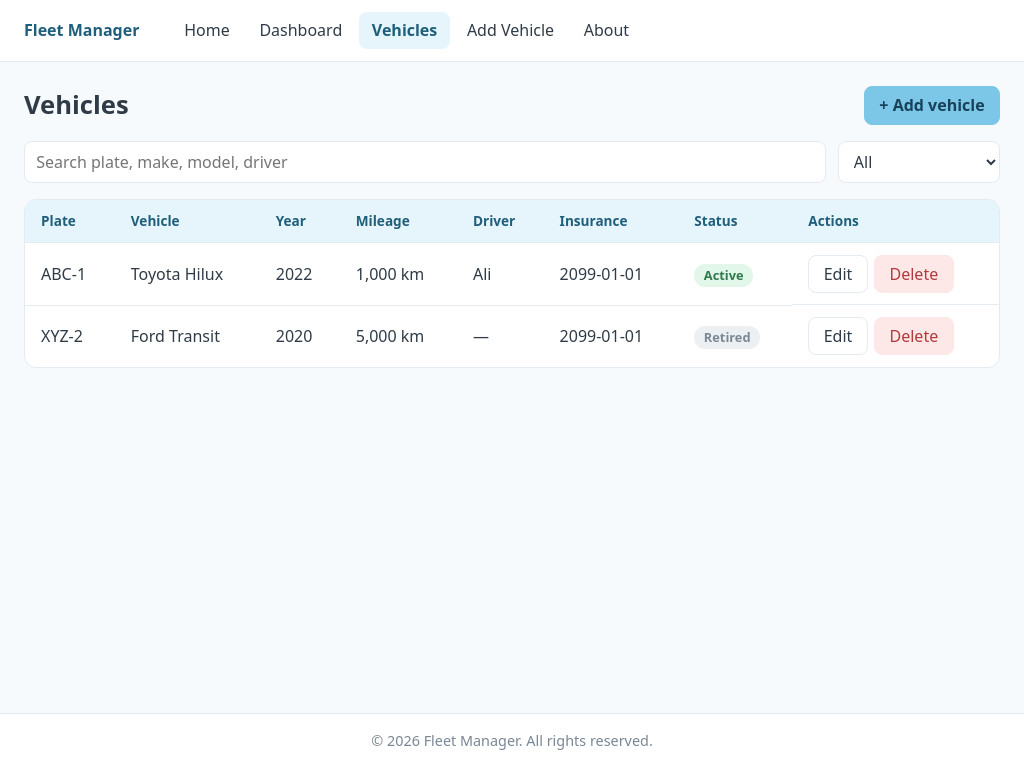
Test: vehicles list › displays vehicles and filters by search and status
This screenshot has width=1024, height=768.
Expected: the text "ABC-1" is shown, [25,243,115,306]
Expected: the text "XYZ-2" is shown, [25,306,115,367]
In the search field named "Search vehicles": {"x": 425, "y": 162} [24,141,826,183], type "toyota"
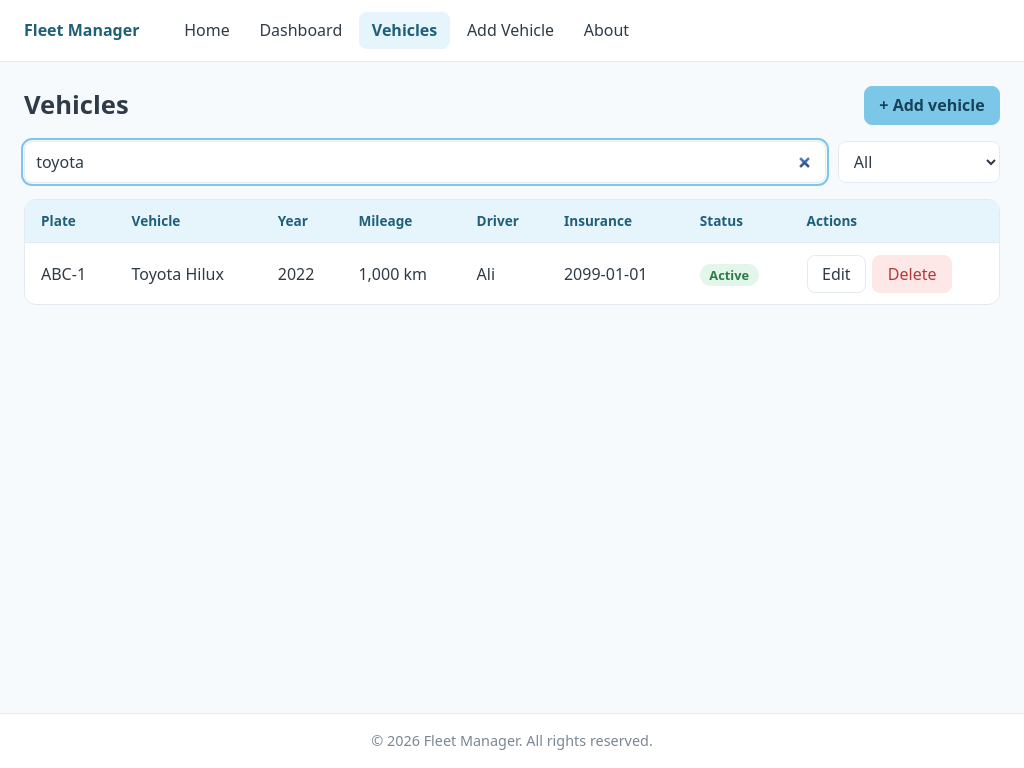
Expected: the text "XYZ-2" is gone
Clear the search field named "Search vehicles": {"x": 425, "y": 162} [24,141,826,183]
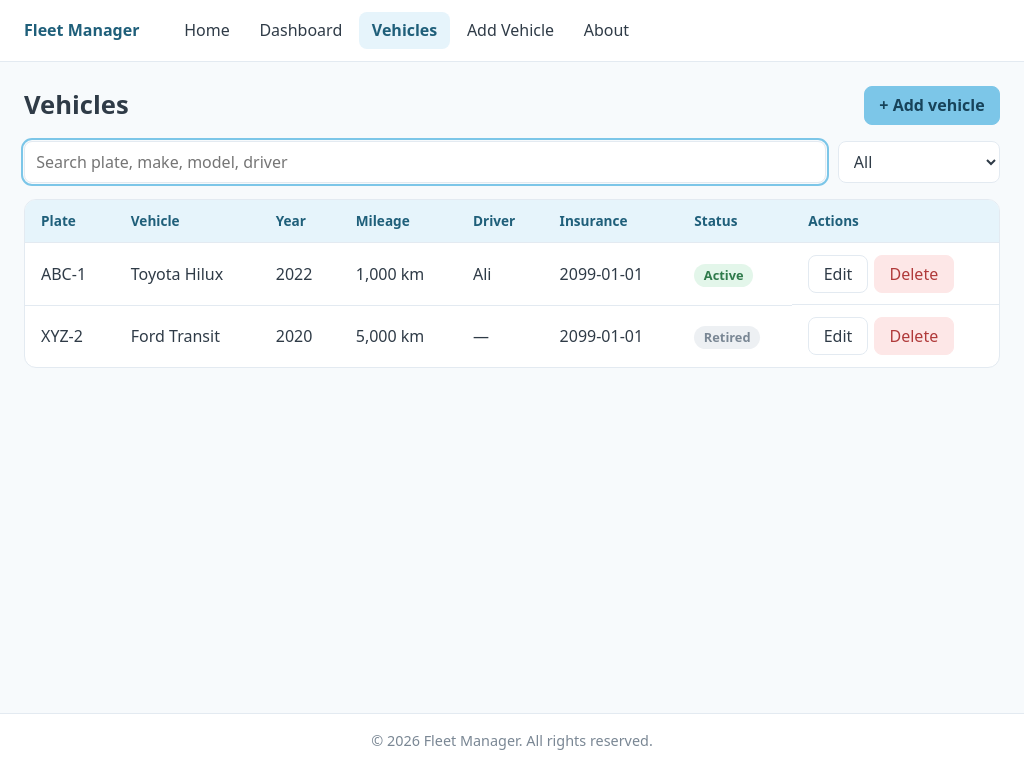
Select "Retired" in the dropdown named "Filter by status": {"x": 919, "y": 162} [838,141,1000,183]
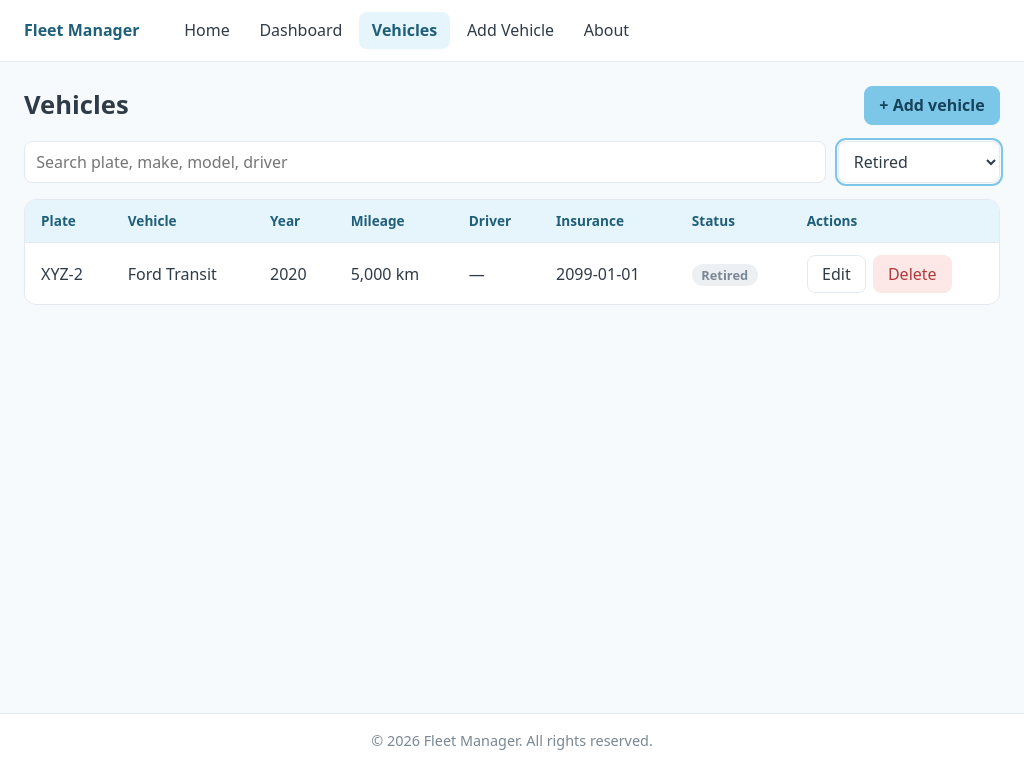
Expected: the text "XYZ-2" is shown, [25,243,112,304]
Expected: the text "ABC-1" is gone
